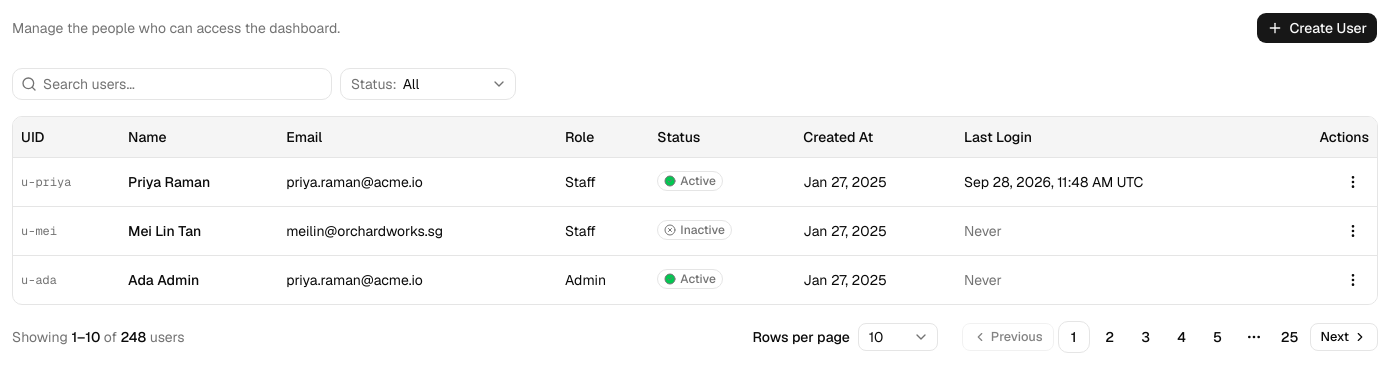
Test: UsersList row actions › offers Disable for an active user and links View to the details page
Check: the text "Priya Raman" is shown, box [128,172,210,190]
Click the button named "Actions for Priya Raman" at (1353, 182), box [1337,166,1369,198]
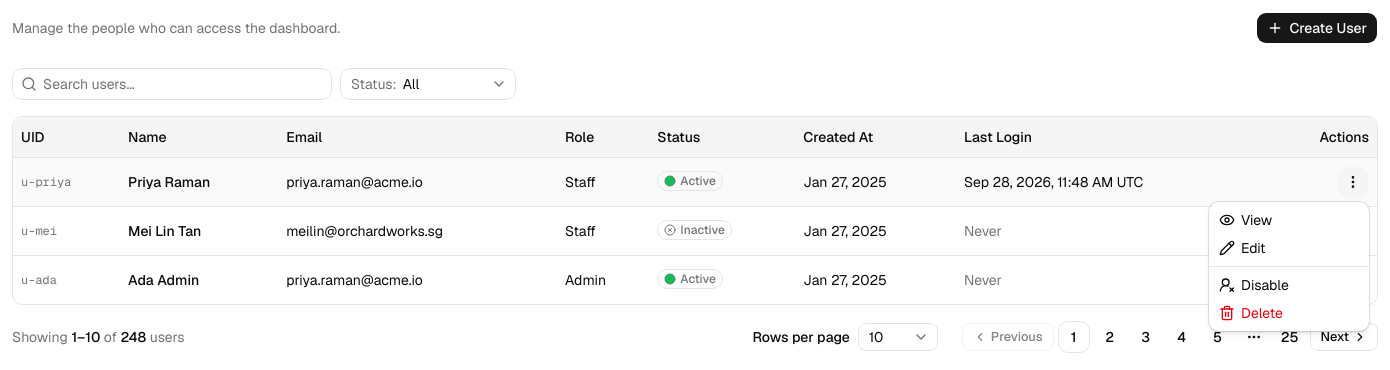
Check: the menu item "Disable" is shown, box [1219,276,1289,294]
